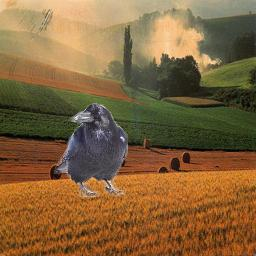Crow: (54, 102, 128, 197)
